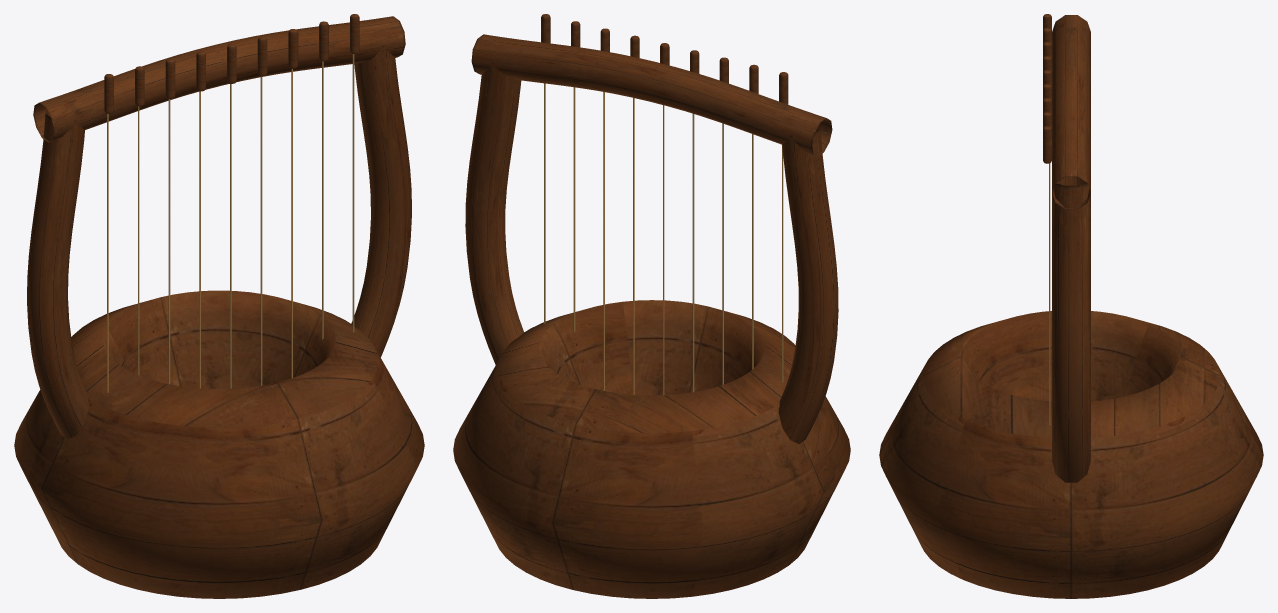
Rendered from harpa.glb.
The picture shows the model from 3 angles, left to right: view 1: azimuth 30°, elevation 25°; view 2: azimuth 150°, elevation 25°; view 3: azimuth 270°, elevation 25°; orthographic projection. The views are drawn at different scales.
Parts seen in each view (by area): view 1: Caixa de ressonância, Braço curvo da lira, Travessa esculpida, Braço curvo da lira.001, Corda.005, Corda.002, Corda.008, Corda.006, Corda.004, Corda.003, Corda, Corda.007 (+1 smaller); view 2: Caixa de ressonância, Travessa esculpida, Braço curvo da lira, Braço curvo da lira.001, Corda.003, Corda.007, Corda.006, Corda.005, Corda.004, Corda.002; view 3: Caixa de ressonância, Braço curvo da lira.001, Travessa esculpida, Corda.008.
Boxes of the visible parts, bbox=[...] form: Caixa de ressonância: bbox=[14, 290, 424, 598]; Braço curvo da lira: bbox=[27, 110, 88, 439]; Travessa esculpida: bbox=[33, 16, 405, 142]; Braço curvo da lira.001: bbox=[351, 45, 411, 357]; Corda.005: bbox=[260, 76, 262, 385]; Corda.002: bbox=[168, 99, 170, 384]; Corda.008: bbox=[352, 54, 354, 331]; Corda.006: bbox=[291, 68, 292, 378]; Corda.004: bbox=[230, 83, 231, 388]; Corda.003: bbox=[199, 91, 200, 388]; Corda: bbox=[107, 113, 108, 392]; Corda.007: bbox=[322, 61, 323, 340]; Caixa de ressonância: bbox=[453, 300, 850, 598]; Travessa esculpida: bbox=[471, 34, 832, 156]; Braço curvo da lira: bbox=[778, 125, 838, 444]; Braço curvo da lira.001: bbox=[465, 62, 524, 364]; Corda.003: bbox=[692, 114, 694, 392]; Corda.007: bbox=[573, 87, 575, 331]; Corda.006: bbox=[603, 92, 604, 390]; Corda.005: bbox=[633, 98, 634, 394]; Corda.004: bbox=[663, 105, 664, 395]; Corda.002: bbox=[722, 123, 723, 384]; Caixa de ressonância: bbox=[879, 311, 1263, 598]; Braço curvo da lira.001: bbox=[1052, 176, 1090, 482]; Travessa esculpida: bbox=[1052, 15, 1090, 209]; Corda.008: bbox=[1049, 163, 1050, 425].
Bounding box in the file's own units: 1.87 × 2.44 × 1.76.
3 materials, 2 textured.
